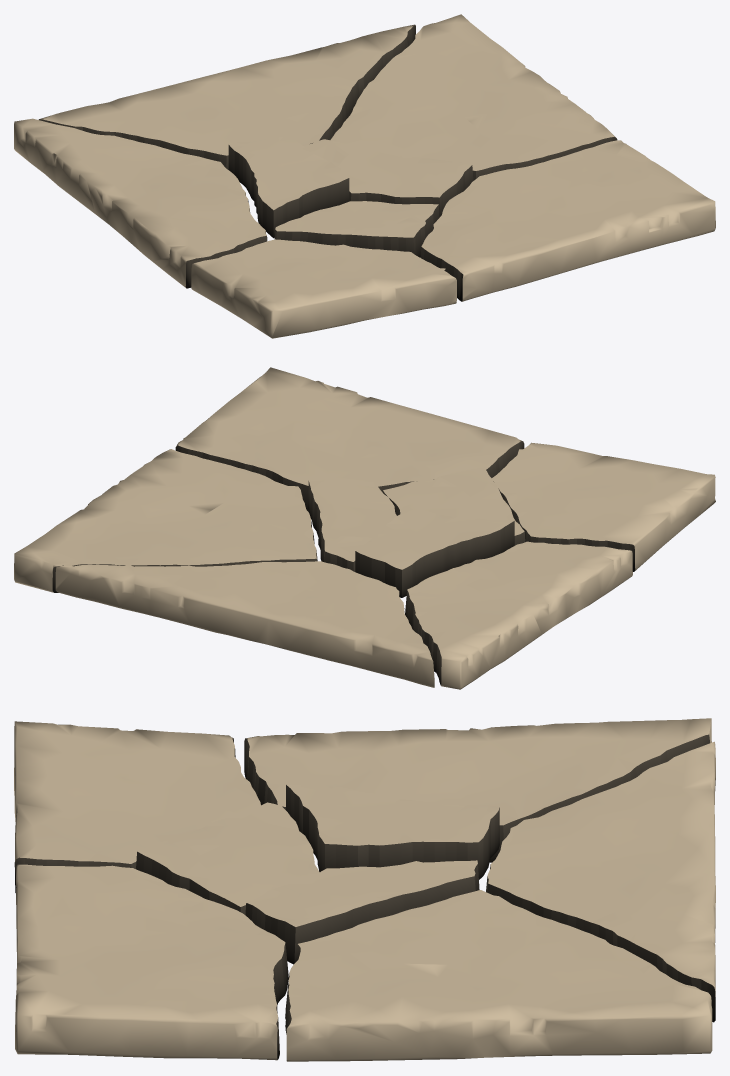
File: slab0-1.glb
3 views of the same model, one above another, from view 1: azimuth 30°, elevation 25°; view 2: azimuth 150°, elevation 25°; view 3: azimuth 270°, elevation 25° (orthographic). The views are drawn at different scales.
Visible parts, largest first — view 1: damage0-1, chip0; view 2: damage0-1, chip0; view 3: damage0-1, chip0.
Part boxes in pixels (x1,y1,x2,y2): damage0-1: (14, 14, 715, 338); chip0: (228, 136, 349, 238); damage0-1: (14, 367, 715, 689); chip0: (355, 509, 514, 597); damage0-1: (14, 718, 715, 1061); chip0: (286, 784, 499, 879).
Size of the model in its own units: 1.01 by 0.1066 by 1.01.
